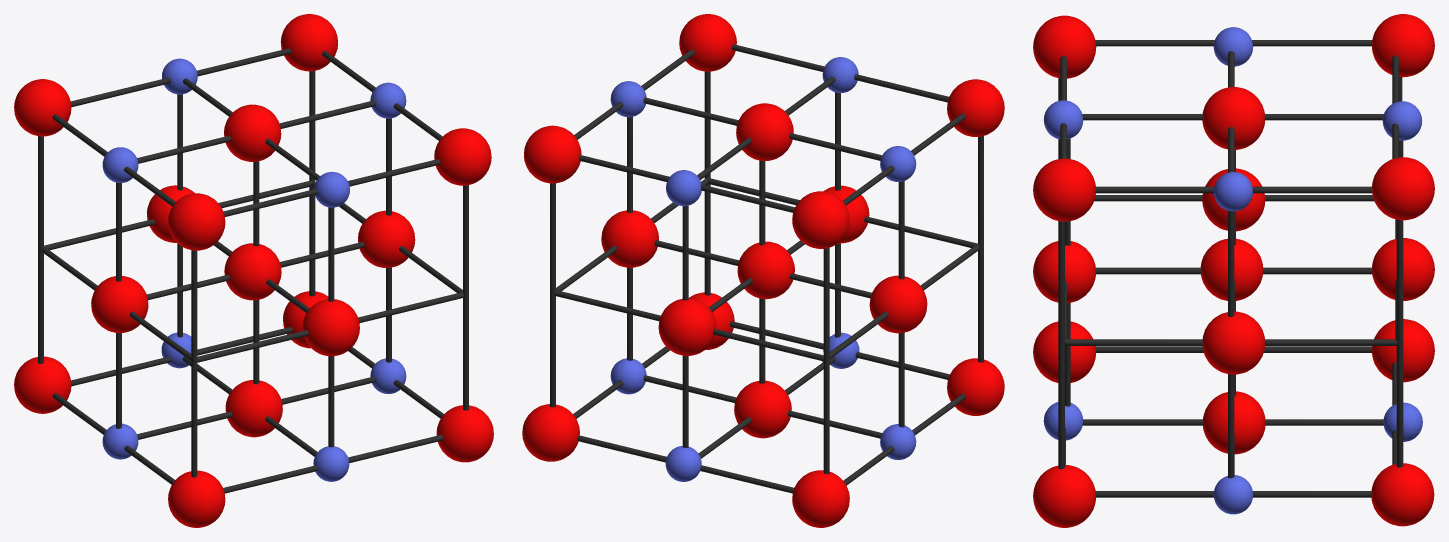
Rendered from NaCl.glb.
The picture shows the model from 3 angles, left to right: view 1: azimuth 30°, elevation 25°; view 2: azimuth 150°, elevation 25°; view 3: azimuth 270°, elevation 25°; orthographic projection. The views are drawn at different scales.
Parts seen in each view (by area): view 1: Sphere.009, Sphere.025, Sphere.008, Cylinder.015, Cylinder.010, Cylinder.017, Cylinder.031, Cylinder.016, Cylinder.013, Cylinder.020, Cylinder.032, Cylinder.012 (+25 smaller); view 2: Sphere.009, Sphere.025, Sphere.008, Cylinder.031, Cylinder.032, Cylinder.016, Cylinder.015, Cylinder.024, Cylinder.017, Cylinder.010, Cylinder.018, Cylinder.012 (+25 smaller); view 3: Sphere.009, Sphere.025, Sphere.008, Cylinder.017, Cylinder.004, Cylinder.003, Cylinder.016, Cylinder.005, Cylinder.006, Cylinder.001, Cylinder.008, Cylinder.002 (+14 smaller).
Boxes of the visible parts, bbox=[...] form: Sphere.009: bbox=[14, 14, 493, 527]; Sphere.025: bbox=[91, 104, 415, 437]; Sphere.008: bbox=[224, 243, 281, 300]; Cylinder.015: bbox=[191, 250, 197, 477]; Cylinder.010: bbox=[197, 292, 464, 362]; Cylinder.017: bbox=[309, 71, 315, 296]; Cylinder.031: bbox=[38, 136, 43, 363]; Cylinder.016: bbox=[463, 185, 468, 410]; Cylinder.013: bbox=[70, 48, 291, 107]; Cylinder.020: bbox=[328, 207, 334, 447]; Cylinder.032: bbox=[44, 181, 314, 250]; Cylinder.012: bbox=[137, 100, 375, 163]; Sphere.009: bbox=[522, 14, 1004, 527]; Sphere.025: bbox=[601, 103, 927, 438]; Sphere.008: bbox=[737, 241, 794, 299]; Cylinder.031: bbox=[823, 247, 829, 474]; Cylinder.032: bbox=[554, 290, 823, 361]; Cylinder.016: bbox=[704, 71, 710, 295]; Cylinder.015: bbox=[978, 136, 983, 362]; Cylinder.024: bbox=[898, 181, 904, 427]; Cylinder.017: bbox=[550, 183, 555, 407]; Cylinder.010: bbox=[705, 178, 979, 247]; Cylinder.018: bbox=[682, 205, 688, 447]; Cylinder.012: bbox=[643, 97, 881, 160]; Sphere.009: bbox=[1033, 14, 1434, 527]; Sphere.025: bbox=[1033, 87, 1434, 454]; Sphere.008: bbox=[1200, 238, 1263, 300]; Cylinder.017: bbox=[1396, 219, 1403, 467]; Cylinder.004: bbox=[1095, 186, 1372, 193]; Cylinder.003: bbox=[1065, 339, 1398, 345]; Cylinder.016: bbox=[1058, 221, 1064, 469]; Cylinder.005: bbox=[1096, 267, 1372, 274]; Cylinder.006: bbox=[1082, 114, 1383, 120]; Cylinder.001: bbox=[1082, 419, 1383, 425]; Cylinder.008: bbox=[1095, 40, 1372, 46]; Cylinder.002: bbox=[1095, 491, 1371, 497].
Bounding box in the file's own units: 4 × 3.97 × 3.97.
